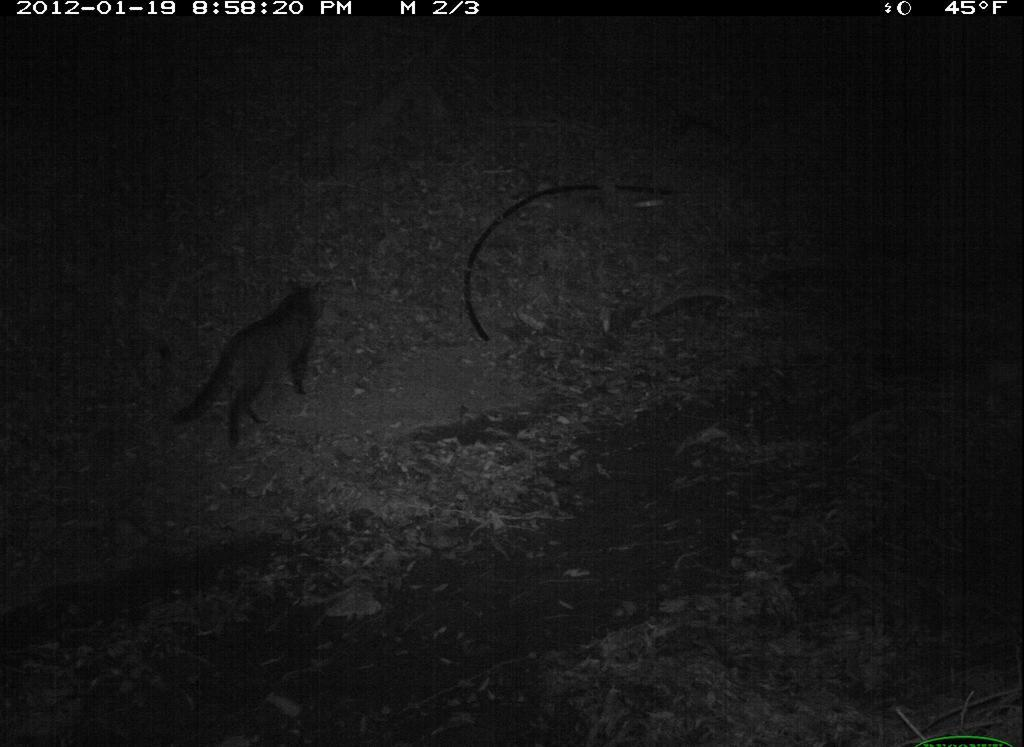cat: (167, 273, 346, 463)
